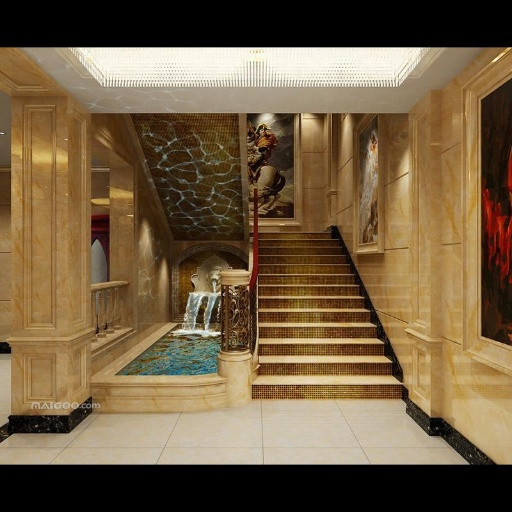Stairs: (252, 233, 402, 398)
